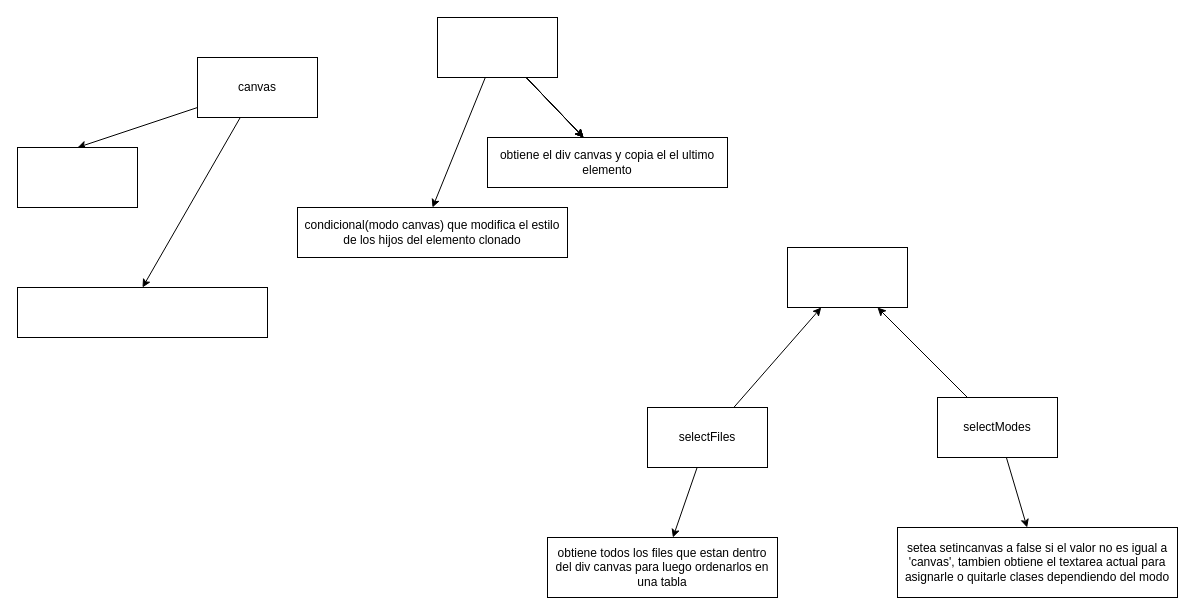
Image size: 1195x615. Some labels were removed from this diagram. Each missing label, with the centre of its shape:
condicional(modo canvas) que modifica los estilos de file y textareas: (x=142, y=312)
contiene file 0: (x=77, y=177)
createbutton: (x=497, y=47)
customs selects: (x=847, y=277)
